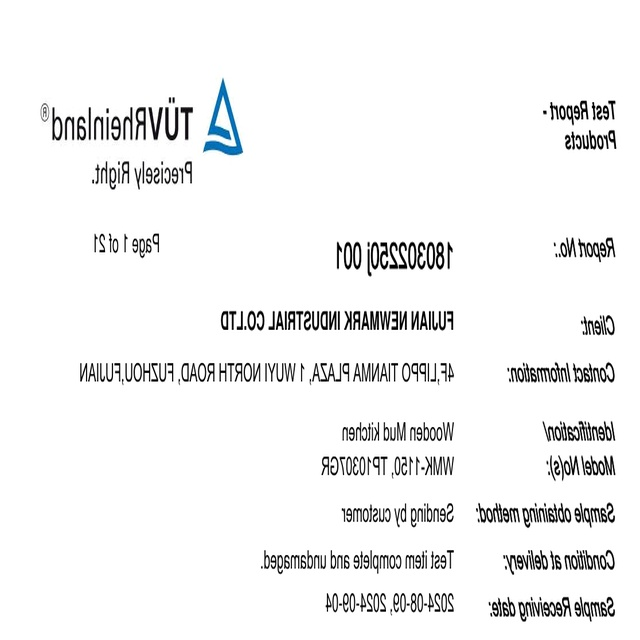tuv_rheinland: (37, 73, 246, 168)
